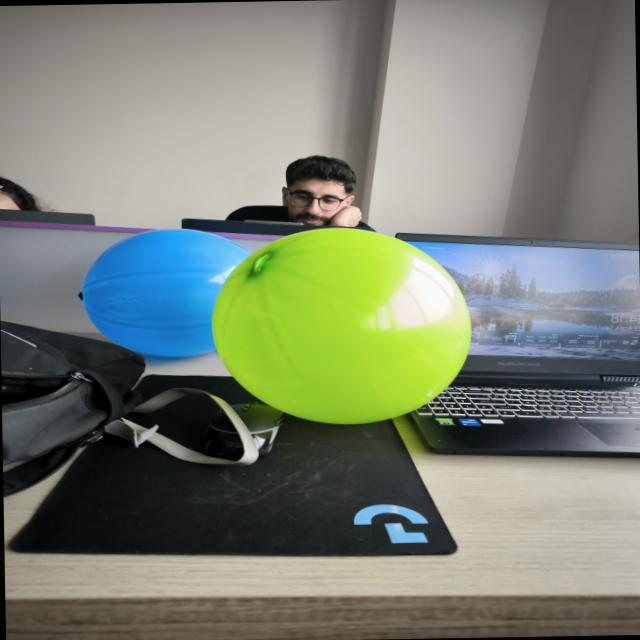balloon: (212, 227, 470, 423), (83, 229, 249, 356)
